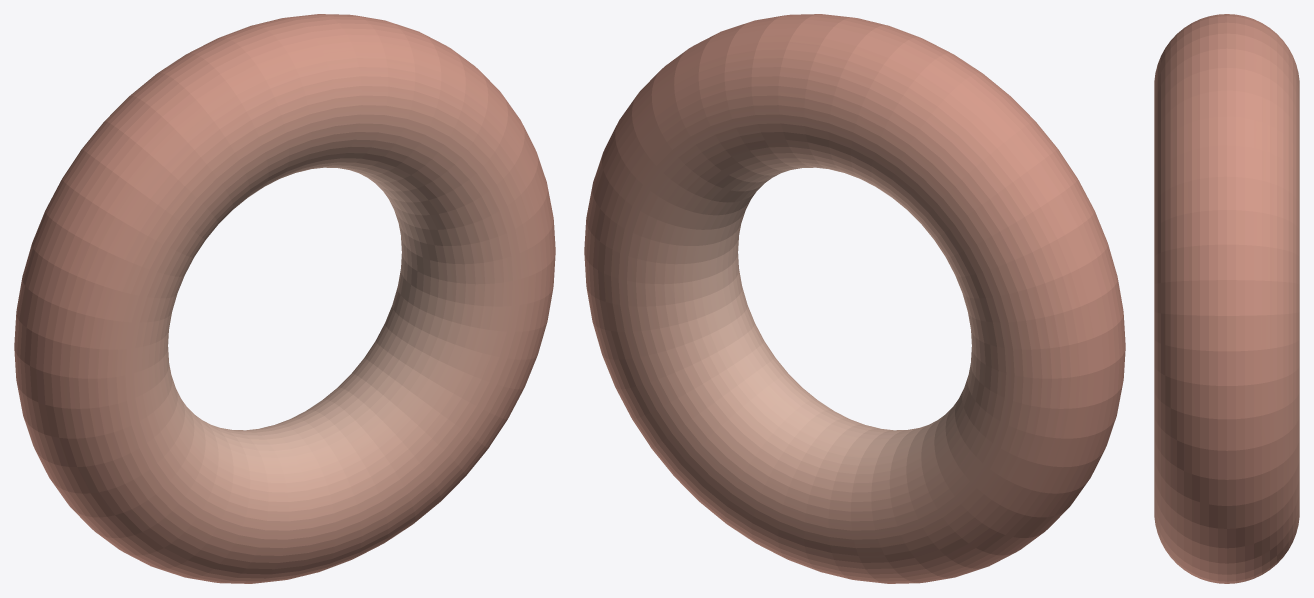
3 views of the same model, side by side, from view 1: azimuth 30°, elevation 25°; view 2: azimuth 150°, elevation 25°; view 3: azimuth 270°, elevation 25° (orthographic). The views are drawn at different scales.
Visible parts, largest first — view 1: world; view 2: world; view 3: world.
Part boxes in pixels (bbox=[...]): world: bbox=[14, 14, 555, 583]; world: bbox=[584, 14, 1125, 583]; world: bbox=[1154, 14, 1299, 583].
Bounding box in the file's own units: 28.67 × 28.61 × 7.32.
